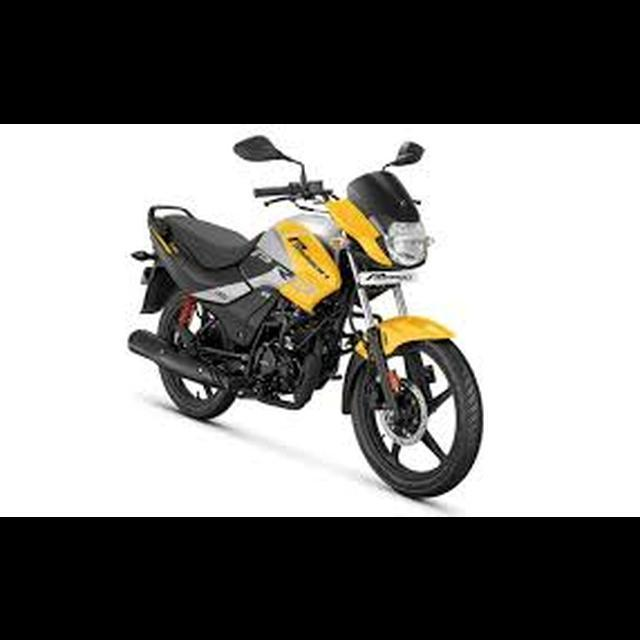motorcycle: (123, 129, 489, 503)
